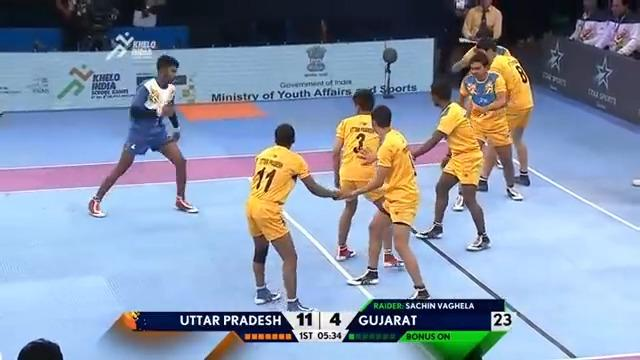Player: (245, 122, 351, 312), (344, 104, 430, 299), (407, 78, 491, 251), (331, 88, 405, 267), (454, 50, 524, 205)
Raider: (87, 53, 199, 218)
referee: (429, 0, 474, 106), (452, 0, 503, 86), (55, 0, 119, 51), (460, 0, 503, 45), (568, 0, 610, 44)
